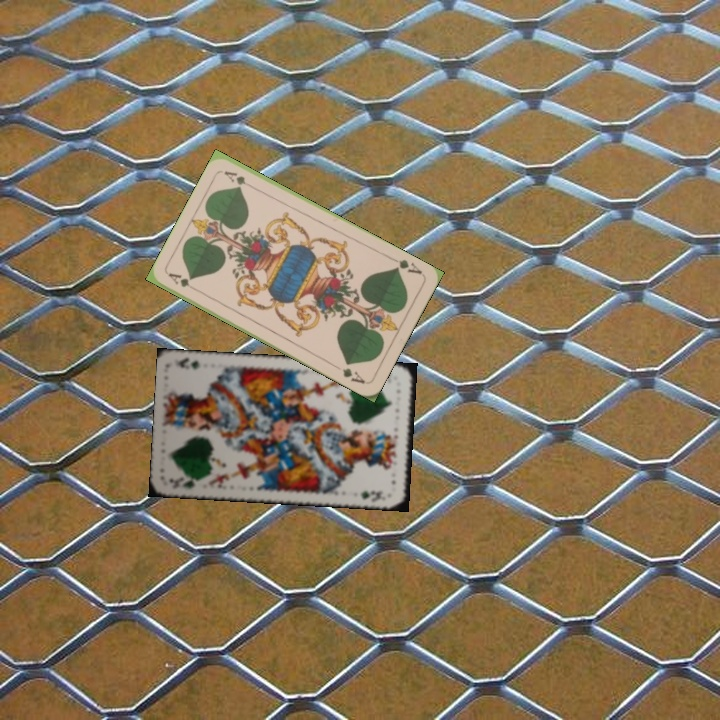GA: (164, 269, 201, 295), (387, 253, 425, 277)
GK: (165, 474, 205, 491)
